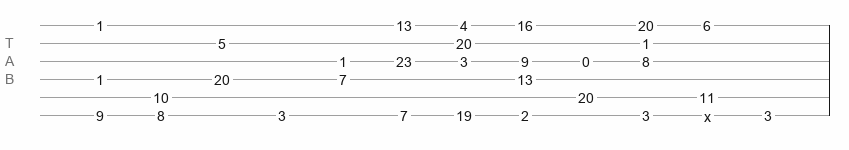0: (582, 54, 590, 64)
1: (96, 72, 104, 82), (96, 18, 104, 28), (339, 54, 347, 64), (642, 36, 650, 46)
10: (153, 90, 169, 100)
11: (699, 90, 715, 100)
13: (396, 18, 412, 28), (517, 72, 533, 82)
16: (517, 18, 533, 28)
19: (456, 108, 472, 118)
2: (521, 108, 529, 118)
20: (214, 72, 230, 82), (456, 36, 472, 46), (578, 90, 594, 100), (638, 18, 654, 28)
23: (396, 54, 412, 64)
3: (278, 108, 286, 118), (460, 54, 468, 64), (642, 108, 650, 118), (764, 108, 772, 118)
4: (460, 18, 468, 28)
5: (218, 36, 226, 46)
6: (703, 18, 711, 28)
7: (339, 72, 347, 82), (400, 108, 408, 118)
8: (157, 108, 165, 118), (642, 54, 650, 64)
9: (96, 108, 104, 118), (521, 54, 529, 64)
x: (704, 109, 711, 117)
